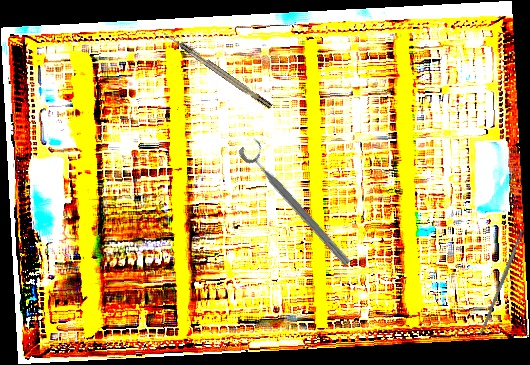Fixation Ring: (236, 135, 361, 270)
Hook Surgical: (162, 29, 273, 111)
Scalpel Handle: (478, 230, 525, 337)
